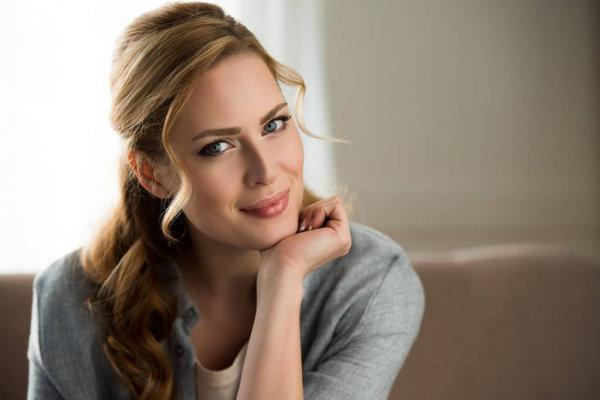Sober: (184, 72, 306, 239)
